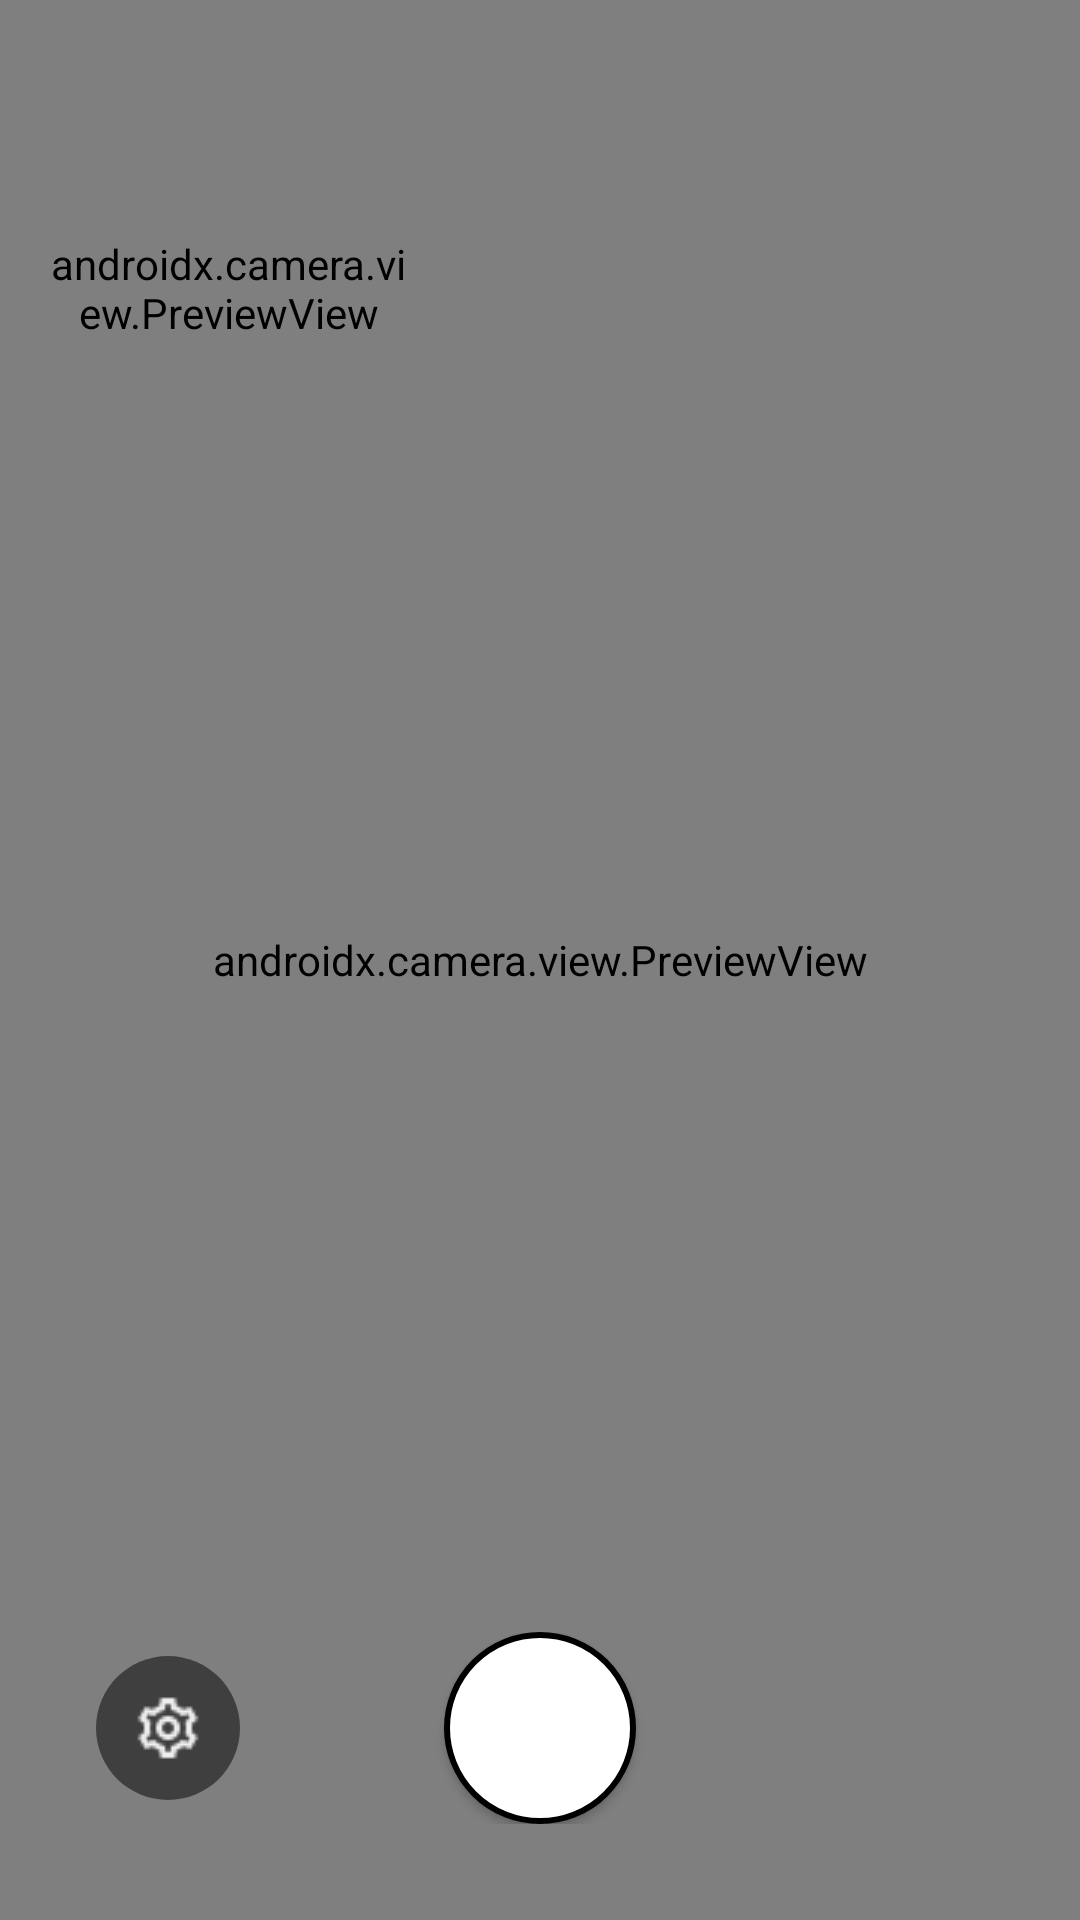

Icon click points for this 1080 x 1920 phone screenshot, format (x,y):
settings: (168,1728)
